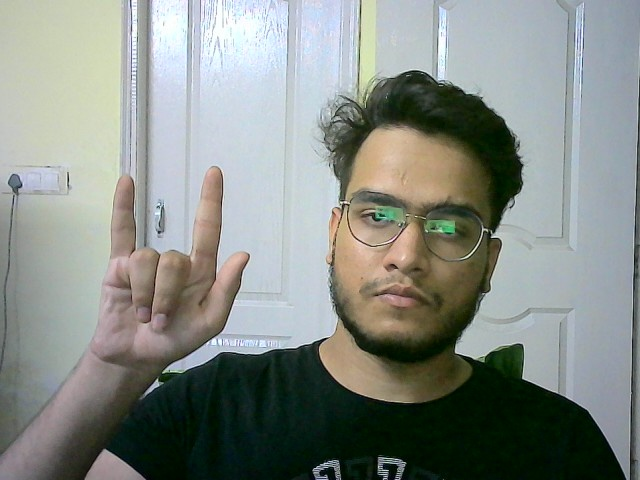I Love You: (90, 159, 251, 367)
